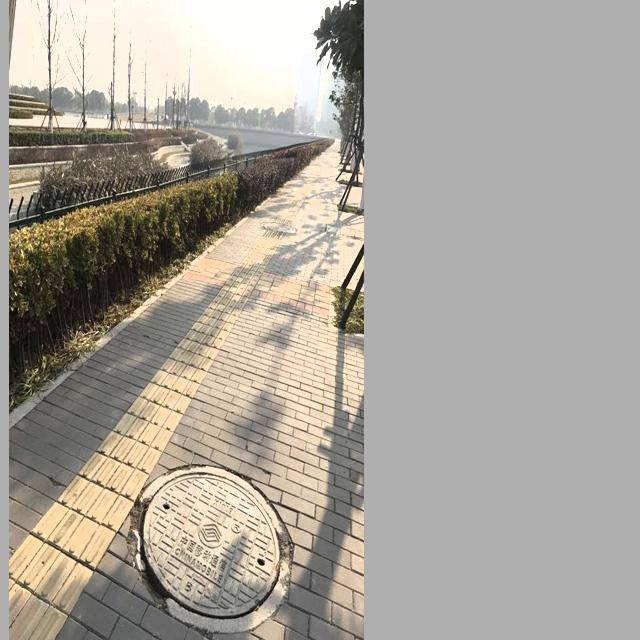circle: (127, 464, 295, 632)
